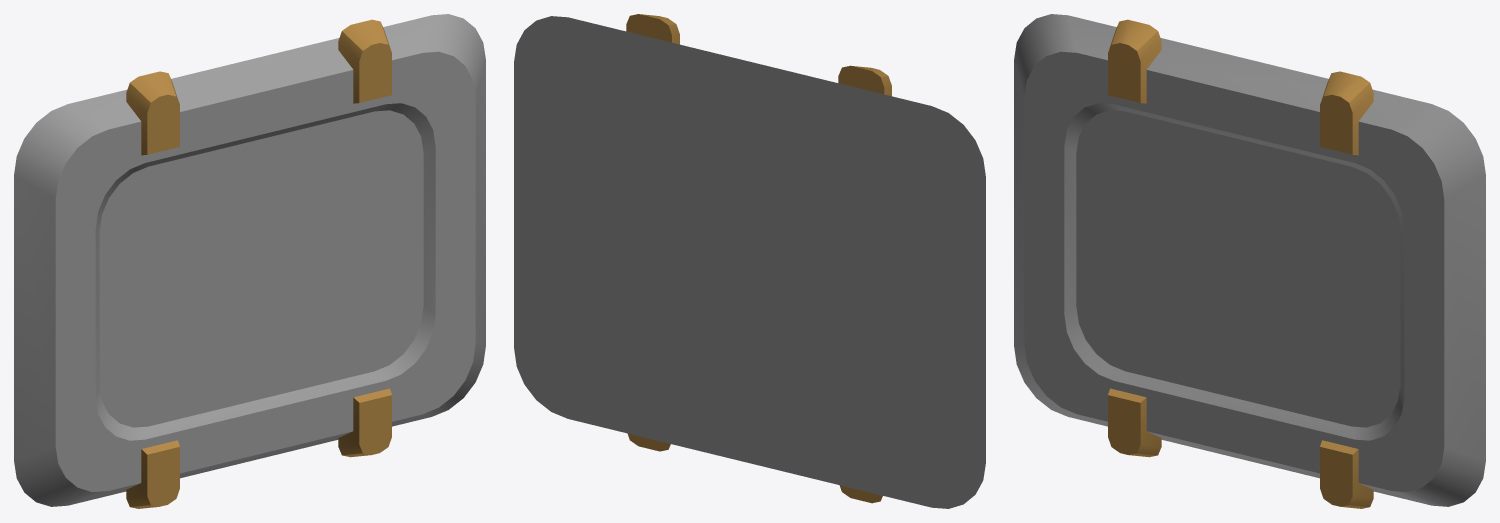
File: Details_Plate_Small.glb
The picture shows the model from 3 angles, left to right: view 1: azimuth 30°, elevation 25°; view 2: azimuth 150°, elevation 25°; view 3: azimuth 330°, elevation 25°; orthographic projection.
Visible parts, largest first — view 1: Main, Accent; view 2: Main, Accent; view 3: Main, Accent.
Boxes of the visible parts, box(x1,y1,x2,y2) form: Main: box(14, 14, 485, 506); Accent: box(126, 19, 391, 508); Main: box(514, 16, 985, 508); Accent: box(626, 14, 891, 503); Main: box(1014, 14, 1485, 506); Accent: box(1108, 19, 1373, 508).
Size of the model in its own units: 0.396 by 0.3466 by 0.0287.
